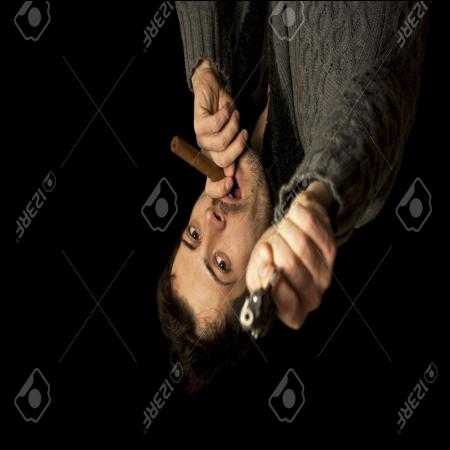Pistol: (238, 264, 287, 343)
